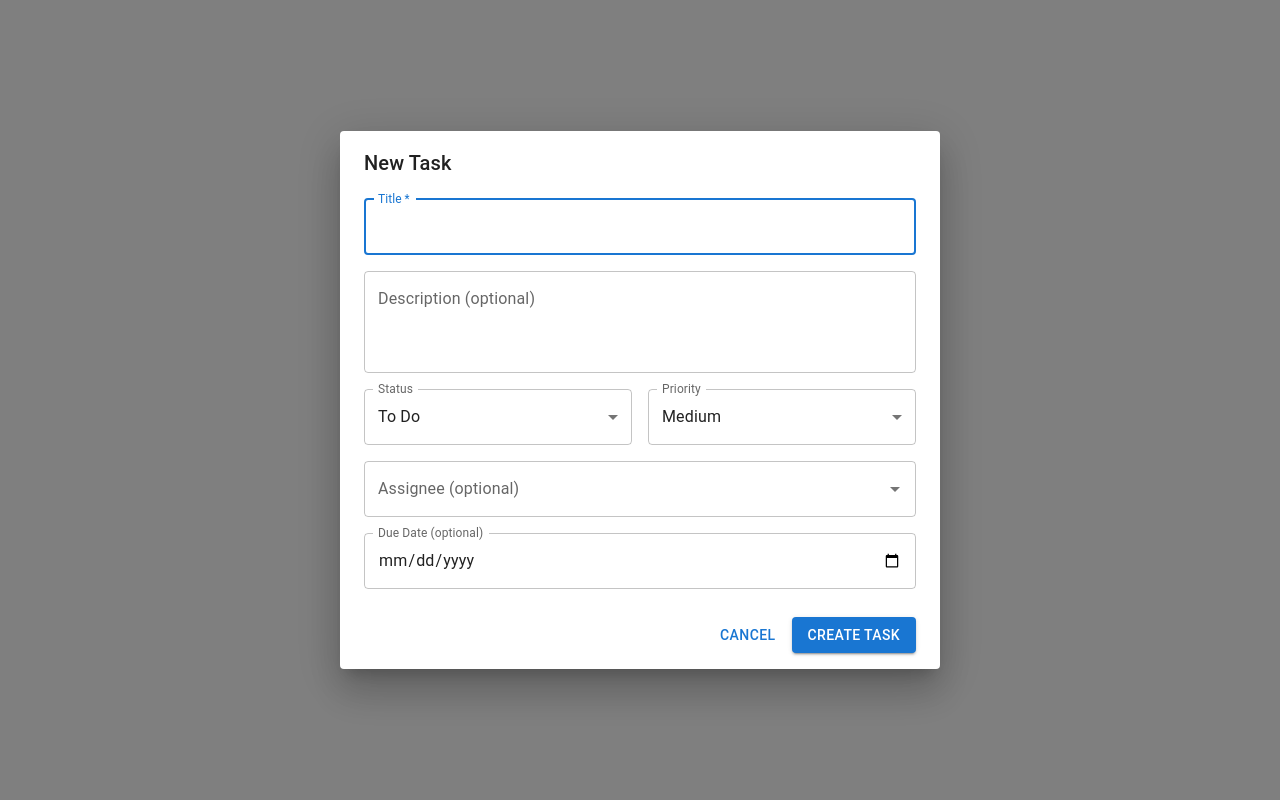
Test: TaskDialog — create mode › shows API error message on failure
This screenshot has width=1280, height=800.
Type "Bad Task" into the field labelled "Title *".
click(640, 227); type("Bad Task")  # box [364, 199, 916, 255]
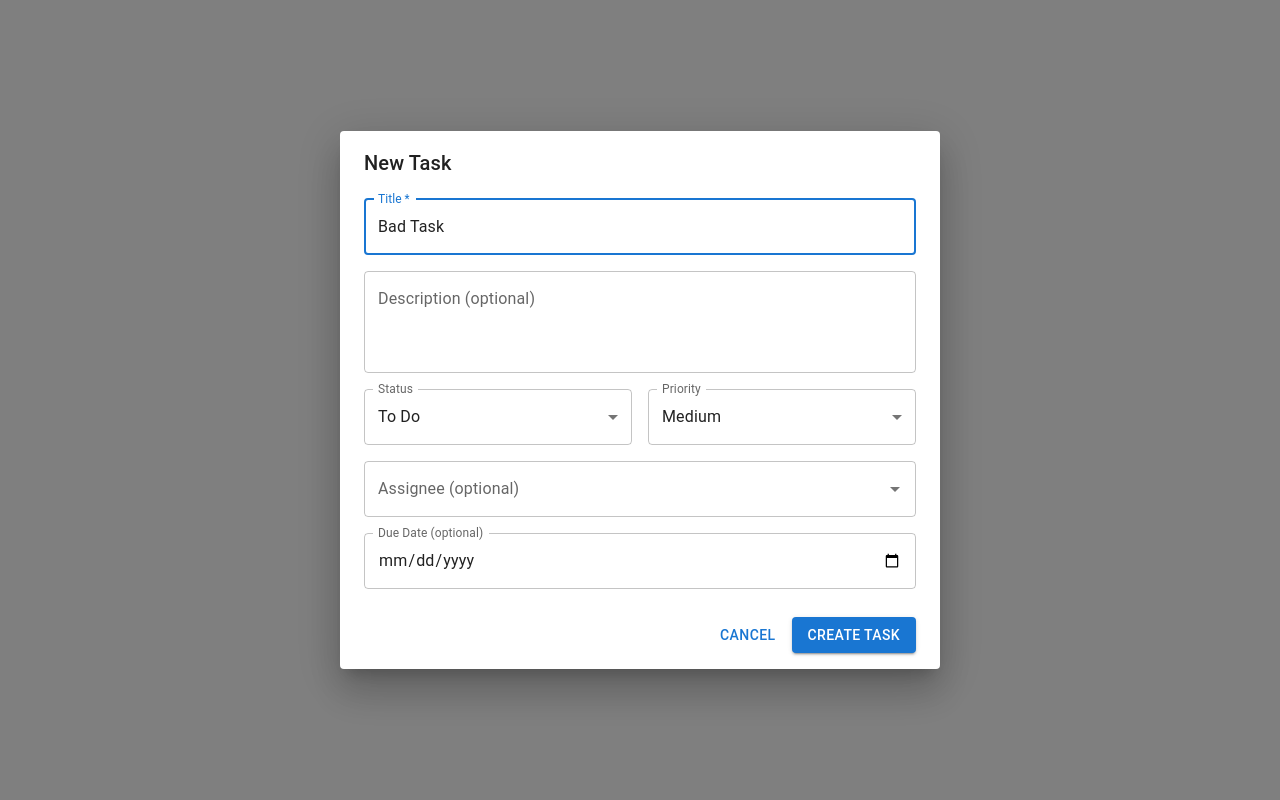
Click the button "Create Task".
click(854, 635)  # box [792, 617, 916, 653]
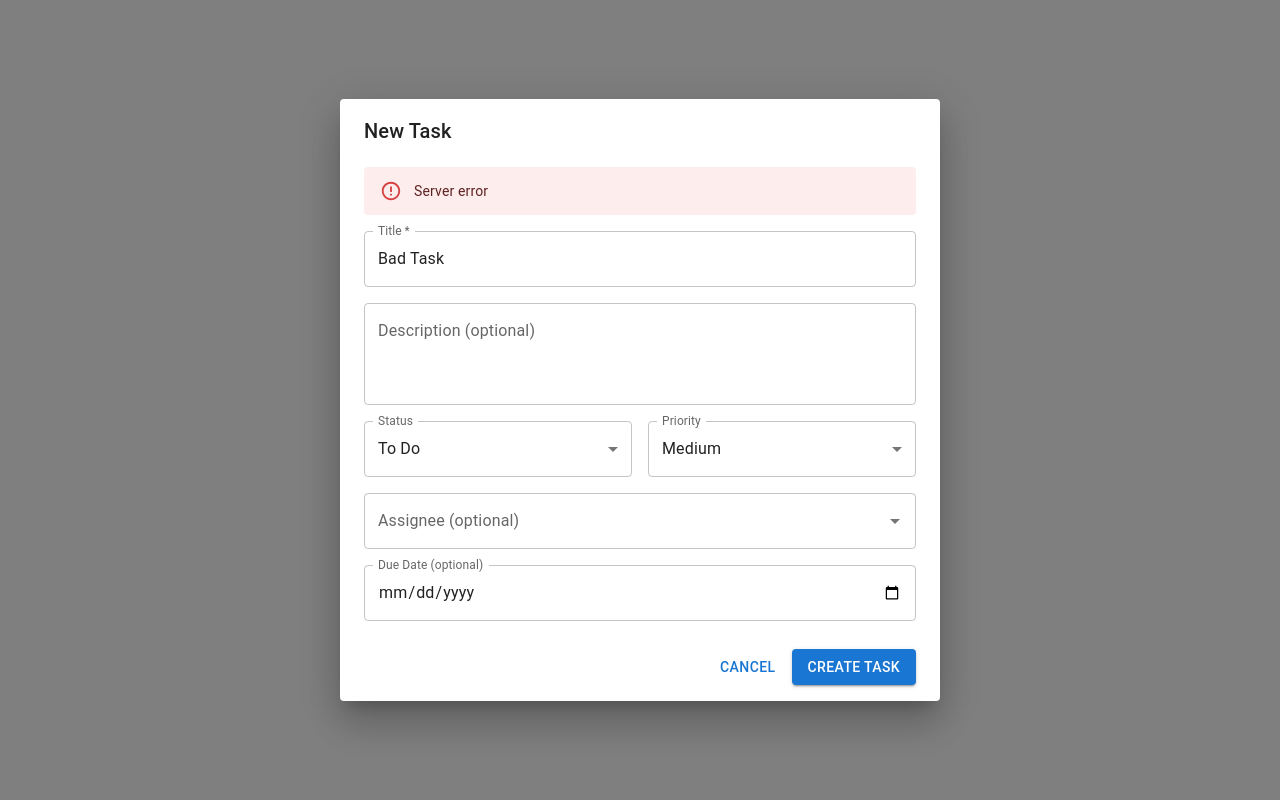
Expected: the text "Server error" is shown, [414, 183, 488, 199]
